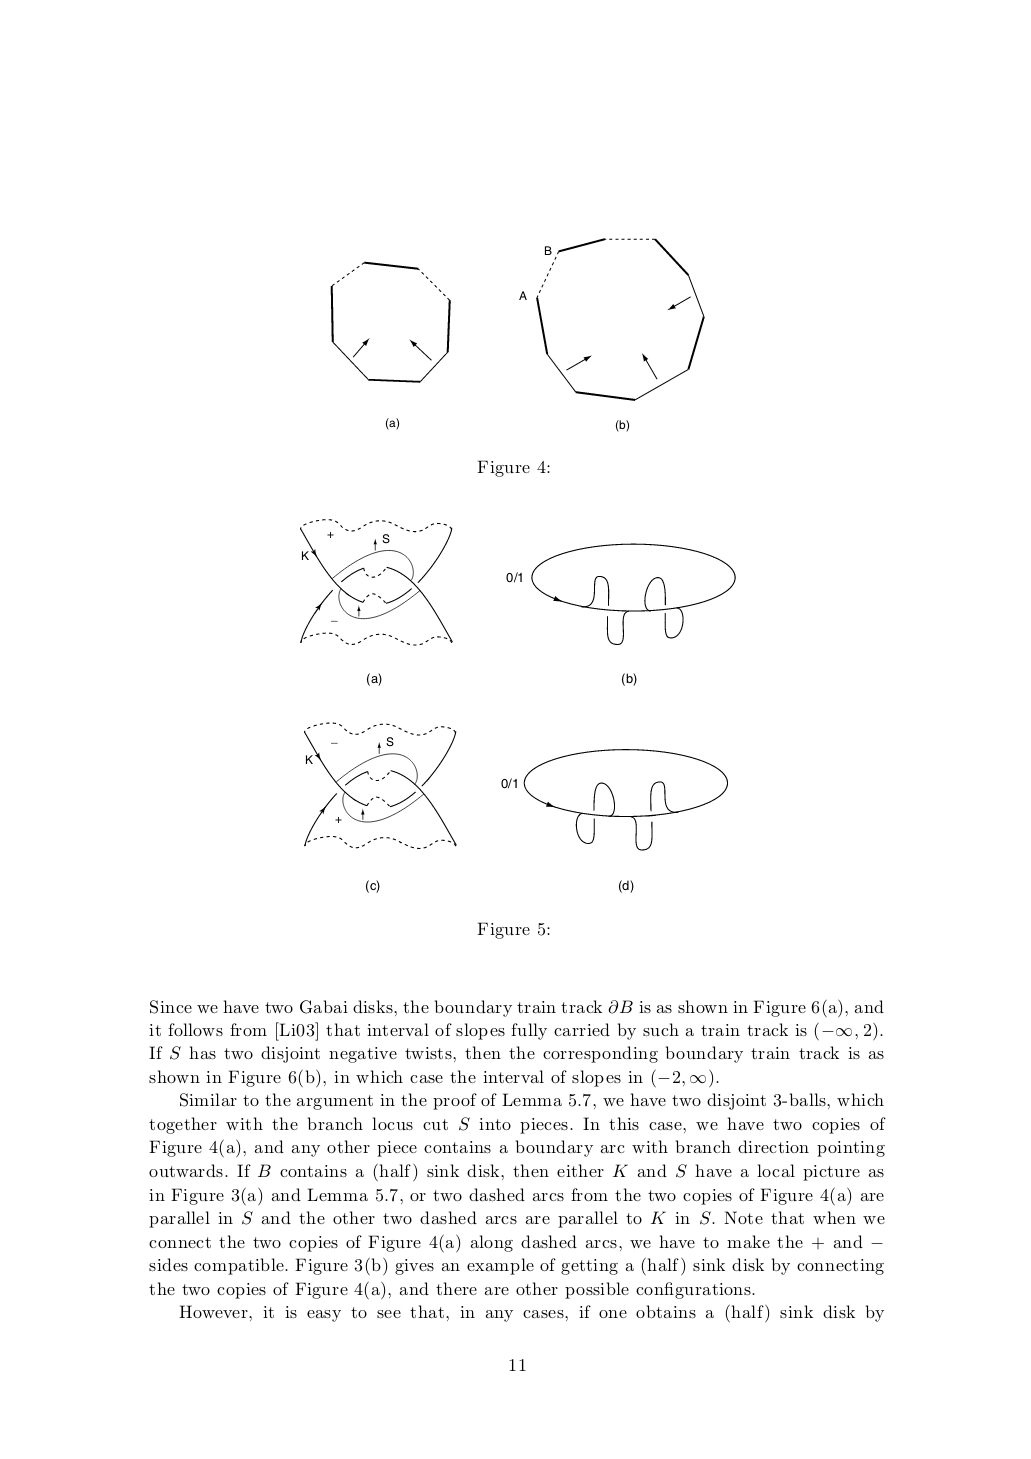figure: (519, 238, 704, 400), (505, 543, 735, 644), (501, 748, 728, 850), (303, 722, 456, 848), (300, 519, 452, 645), (330, 261, 450, 381)
